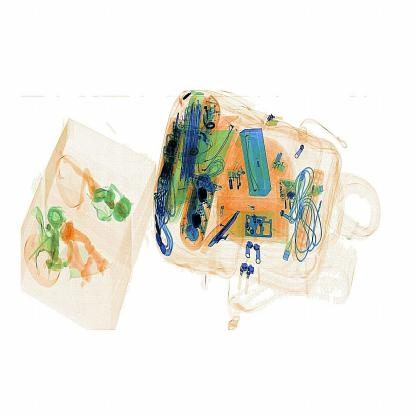pliers: (200, 202, 242, 255)
